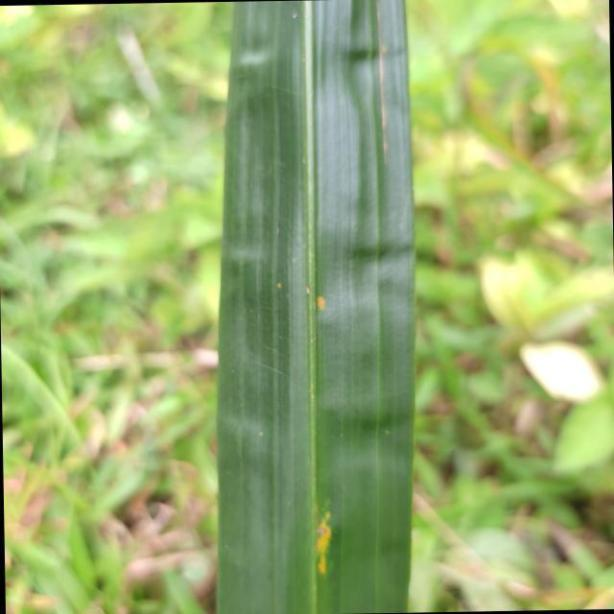Boron: (219, 0, 419, 614)
